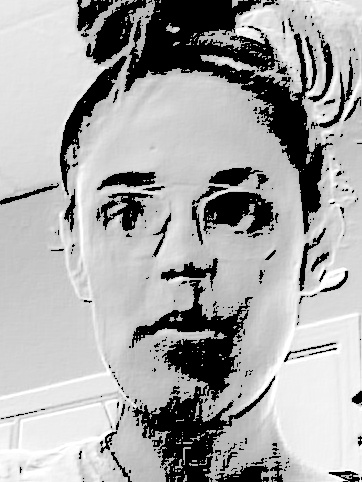nose_M_C: (153, 209, 216, 299)
